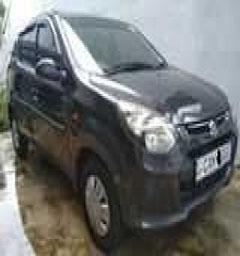car: (2, 5, 238, 255)
